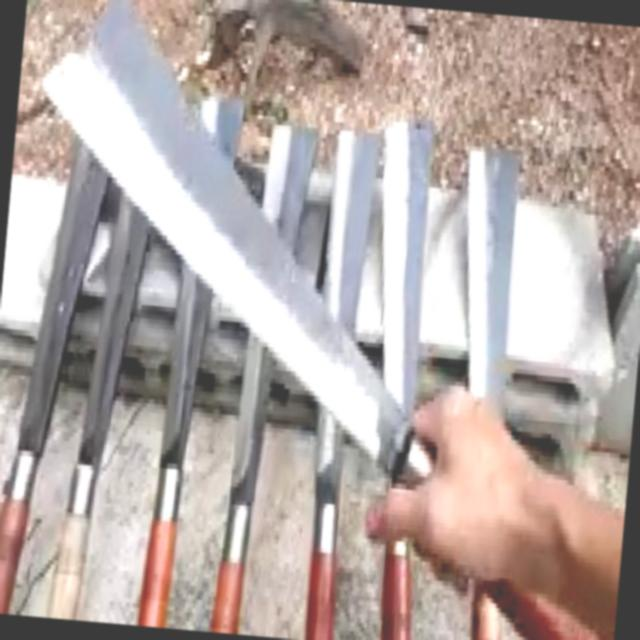eto: (42, 0, 591, 640)
